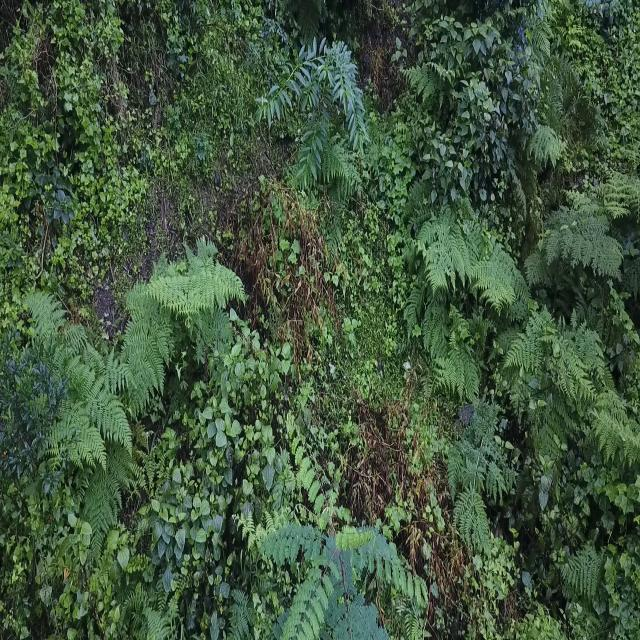Mysore-Thorn-Weed: (252, 392, 437, 640)
